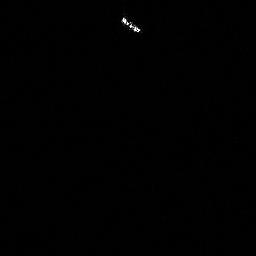ship: (122, 16, 141, 32)
